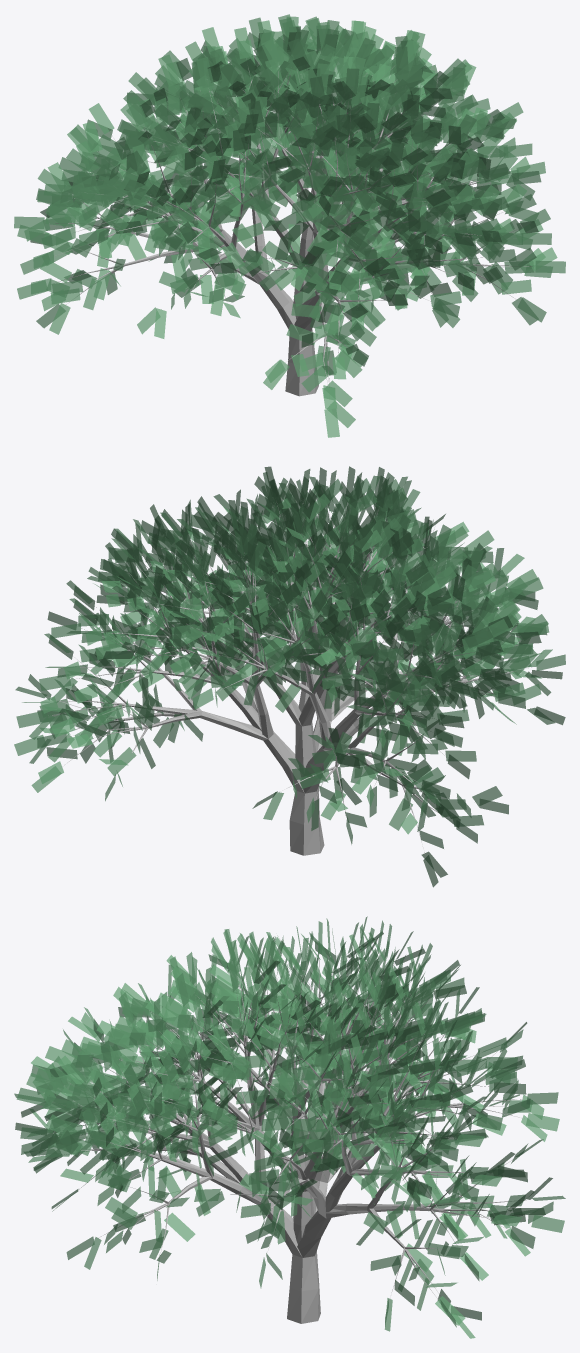
Rendered from CherryTree.fbx.
The picture shows the model from 3 angles, top to bottom: view 1: azimuth 30°, elevation 25°; view 2: azimuth 150°, elevation 25°; view 3: azimuth 270°, elevation 25°; orthographic projection. The views are drawn at different scales.
Visible parts, largest first — view 1: cherryTree1Leaf, cherryTree1Main; view 2: cherryTree1Leaf, cherryTree1Main; view 3: cherryTree1Leaf, cherryTree1Main.
Part boxes in pixels (box(x1,y1,x2,y2)): cherryTree1Leaf: box(14, 14, 565, 437); cherryTree1Main: box(54, 63, 532, 396); cherryTree1Leaf: box(14, 466, 565, 887); cherryTree1Main: box(48, 501, 531, 855); cherryTree1Leaf: box(14, 916, 565, 1338); cherryTree1Main: box(53, 952, 529, 1323).
Bounding box in the file's own units: 21.55 × 15.95 × 21.21.
